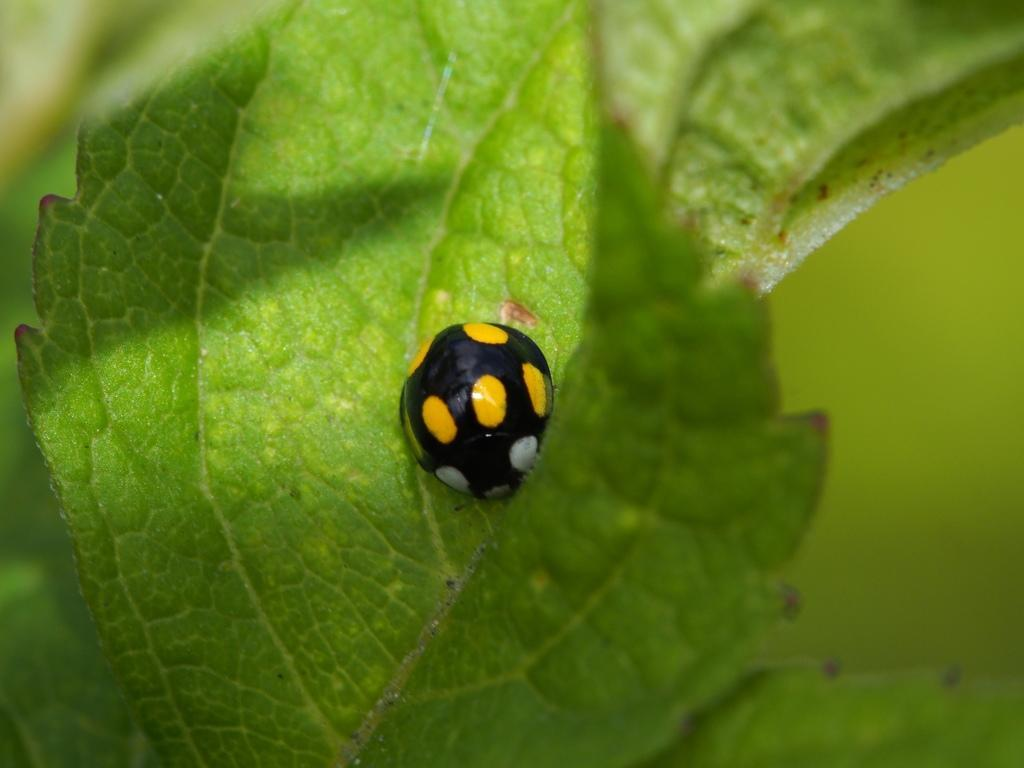ladybug: (395, 315, 563, 511)
